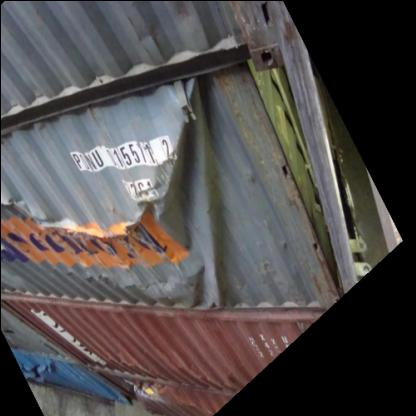Damage: (17, 254, 231, 314), (148, 79, 223, 240), (0, 193, 158, 247)
